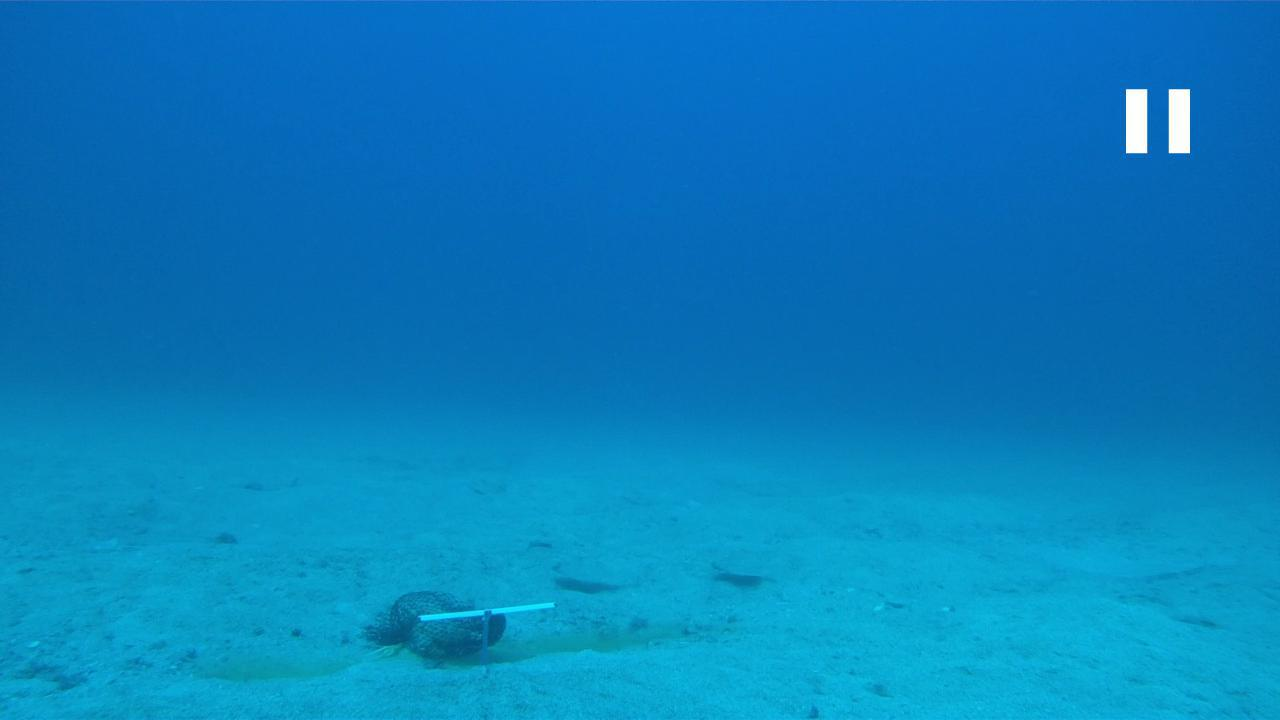bothus: (547, 552, 646, 593), (699, 546, 781, 585)
